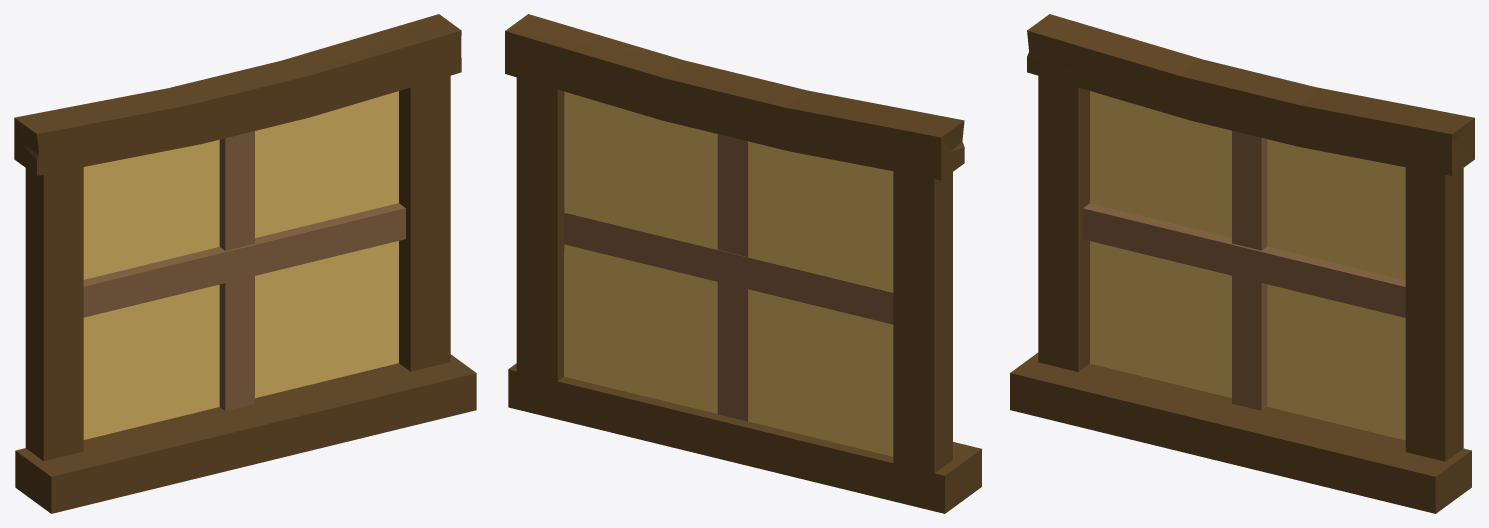
Rendered from Window_01.fbx.
3 renders of one model, left to right at view 1: azimuth 30°, elevation 25°; view 2: azimuth 150°, elevation 25°; view 3: azimuth 330°, elevation 25°, orthographic. The views are drawn at different scales.
Visible parts, largest first — view 1: Window_01; view 2: Window_01; view 3: Window_01.
Part boxes in pixels (x1=…): Window_01: x1=14, y1=14, x2=476, y2=513; Window_01: x1=505, y1=14, x2=981, y2=513; Window_01: x1=1010, y1=14, x2=1474, y2=513.
Bounding box in the file's own units: 1.13 × 0.9337 × 0.1763.
